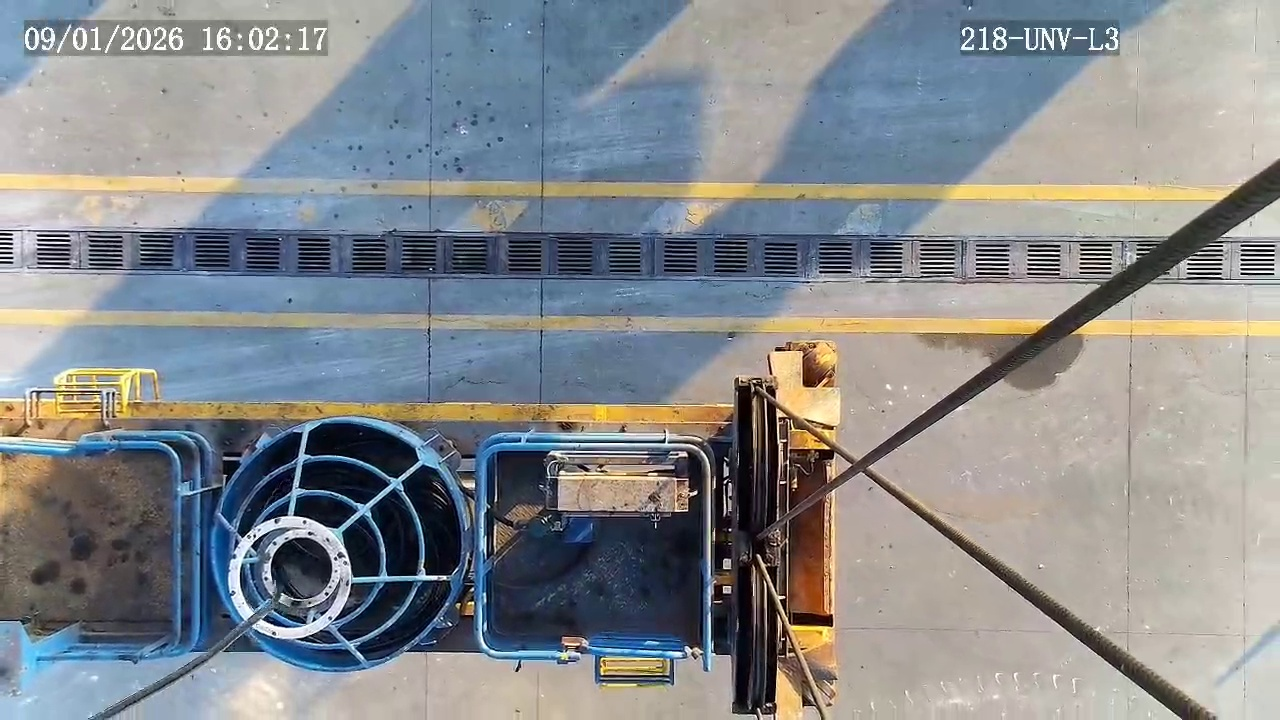right: (211, 417, 466, 672)
